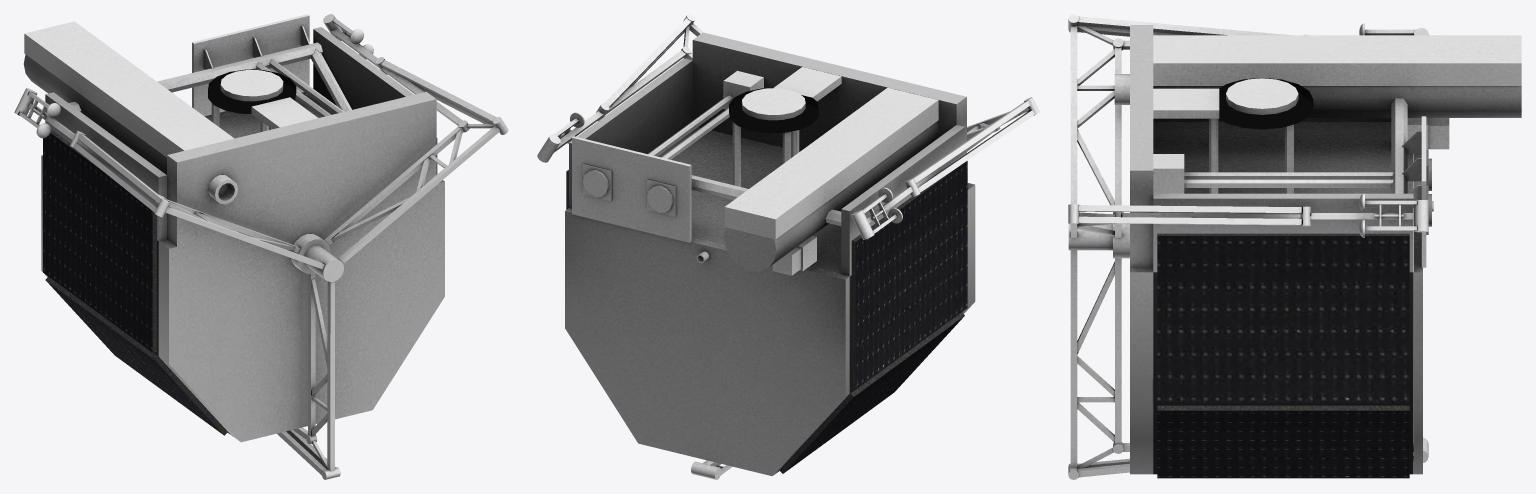
Rendered from philae.gltf.
3 renders of one model, left to right at view 1: azimuth 30°, elevation 25°; view 2: azimuth 150°, elevation 25°; view 3: azimuth 270°, elevation 25°, orthographic. The views are drawn at different scales.
Parts seen in each view (by area): view 1: Philae, dish.002, vents.004; view 2: dish.002, Philae, vents.004, dish.003; view 3: dish.002, vents.004, Philae, lander.001.
Part boxes in pixels (box(x1,y1,x2,y2)): Philae: box(41, 94, 444, 442); dish.002: box(14, 14, 508, 479); vents.004: box(43, 129, 437, 436); dish.002: box(537, 14, 1039, 479); Philae: box(565, 97, 975, 475); vents.004: box(566, 161, 967, 473); dish.003: box(724, 207, 776, 271); dish.002: box(1068, 14, 1521, 479); vents.004: box(1157, 233, 1409, 478); Philae: box(1130, 198, 1422, 474); lander.001: box(1153, 272, 1413, 474).
Size of the model in its own units: 1.3 by 1.17 by 1.26.
Materials: 4 (3 with a texture image).
